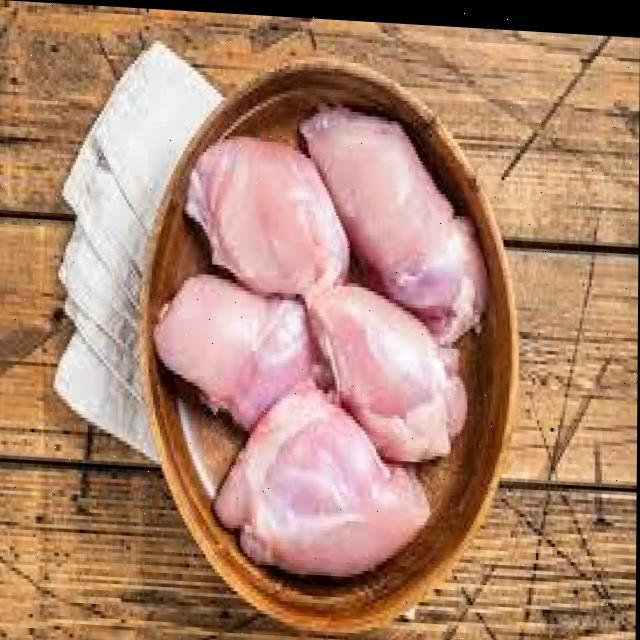thigh: (302, 89, 494, 348), (195, 380, 426, 581), (190, 127, 352, 299), (307, 274, 463, 452), (162, 268, 312, 420)
